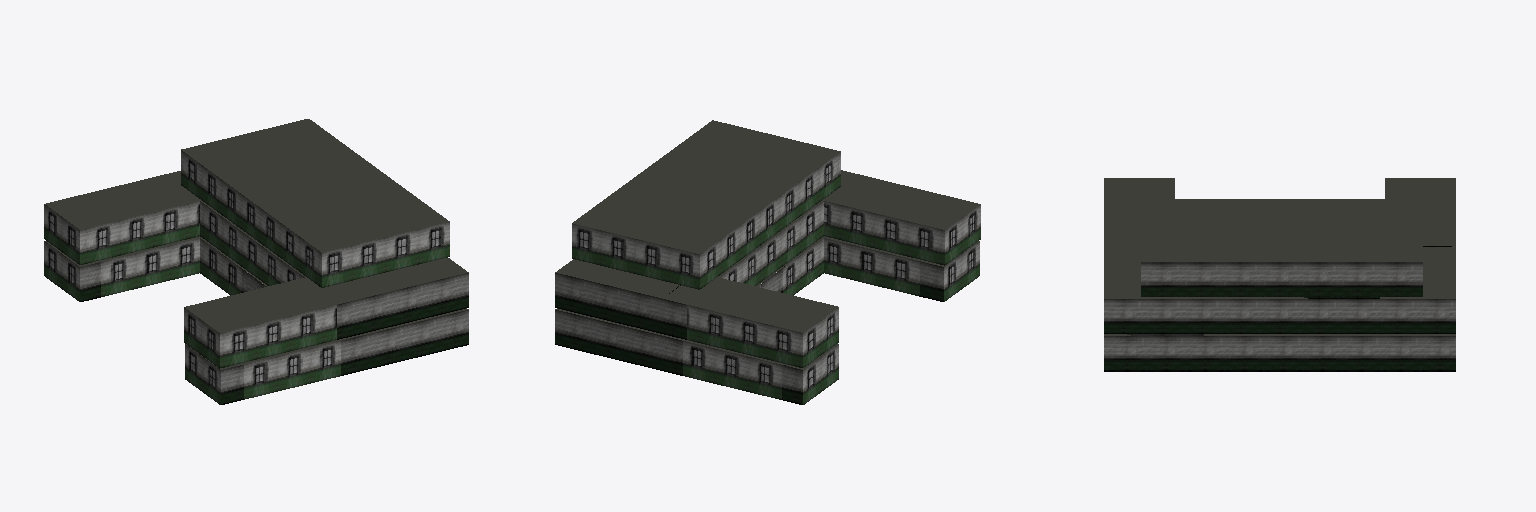
The picture shows the model from 3 angles: view 1: azimuth 30°, elevation 25°; view 2: azimuth 150°, elevation 25°; view 3: azimuth 270°, elevation 25°; orthographic projection.
Visible parts, largest first — view 1: hospital; view 2: hospital; view 3: hospital.
Boxes of the visible parts, x1,y1,x2,y2 form: hospital: [44, 119, 468, 404]; hospital: [555, 120, 980, 404]; hospital: [1104, 178, 1455, 371].
Size of the model in its own units: 50.59 by 21.27 by 62.09.
Materials: 6 (4 with a texture image).